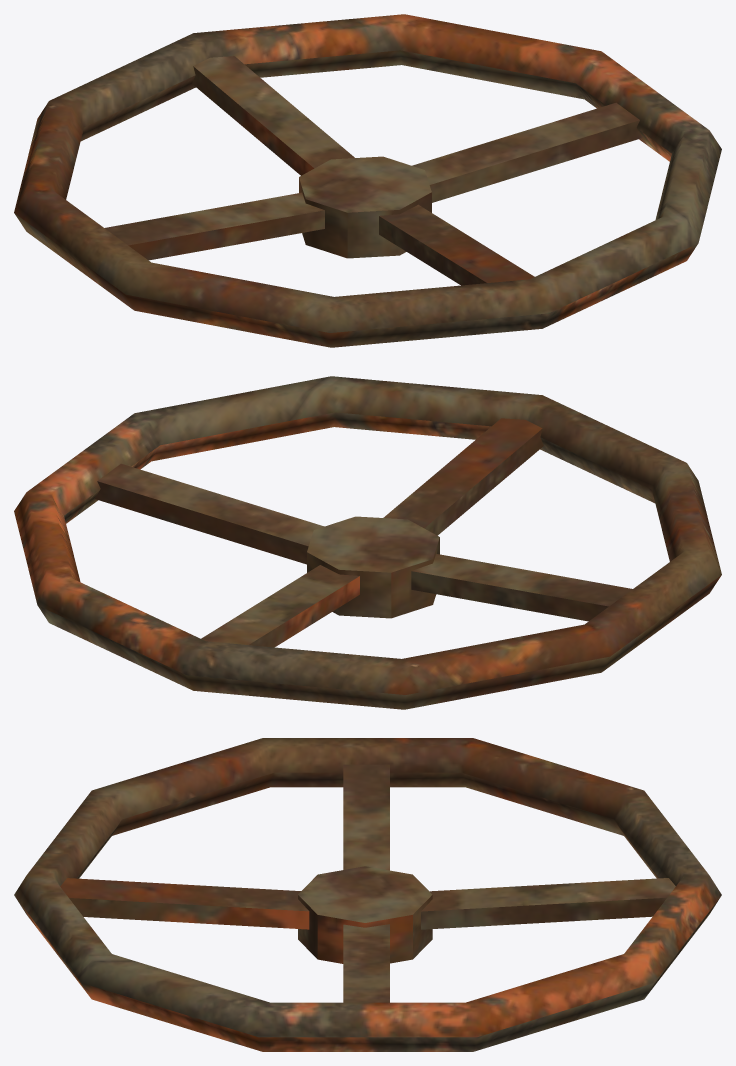
Rendered from wheel_rusty.FBX.
3 renders of one model, top to bottom at view 1: azimuth 30°, elevation 25°; view 2: azimuth 150°, elevation 25°; view 3: azimuth 270°, elevation 25°, orthographic. The views are drawn at different scales.
Parts seen in each view (by area): view 1: Cylinder029; view 2: Cylinder029; view 3: Cylinder029.
Boxes of the visible parts, bbox=[...] form: Cylinder029: bbox=[14, 14, 721, 347]; Cylinder029: bbox=[14, 376, 721, 709]; Cylinder029: bbox=[14, 738, 721, 1051].
Bounding box in the file's own units: 36.95 × 4 × 38.85.
